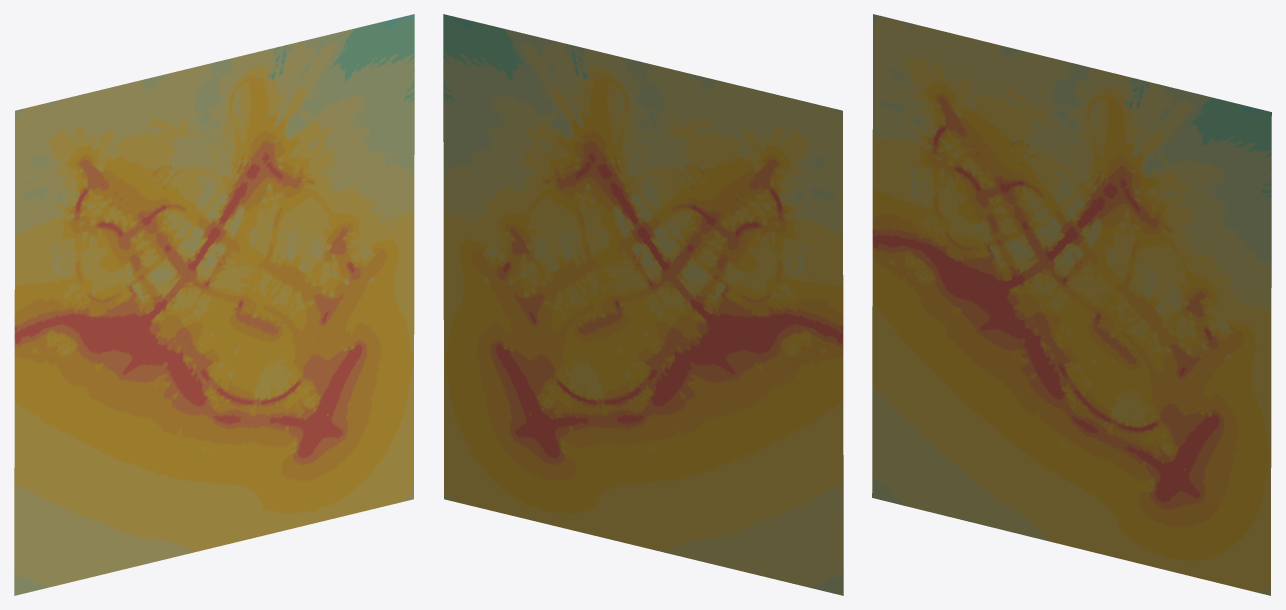
Rendered from Type_2_Res_Plan_Day.glb.
The picture shows the model from 3 angles, left to right: view 1: azimuth 30°, elevation 25°; view 2: azimuth 150°, elevation 25°; view 3: azimuth 330°, elevation 25°; orthographic projection.
Parts seen in each view (by area): view 1: node; view 2: node; view 3: node.
Part boxes in pixels (x1,y1,x2,y2): node: (14,14,414,595); node: (443,14,843,595); node: (872,14,1271,595).
Bounding box in the file's own units: 2506 × 2905 × 0.2877.
